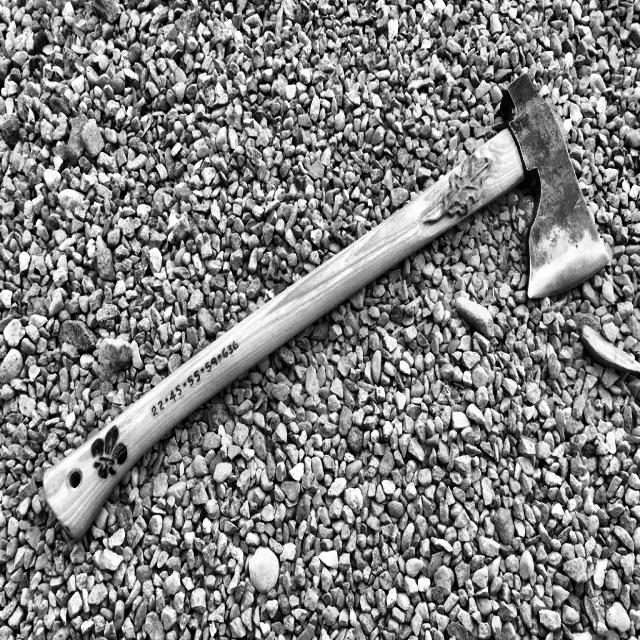kapak: (27, 64, 619, 555)
